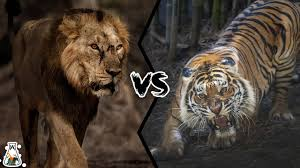lion: (2, 10, 138, 165)
tiger: (156, 3, 300, 158)
